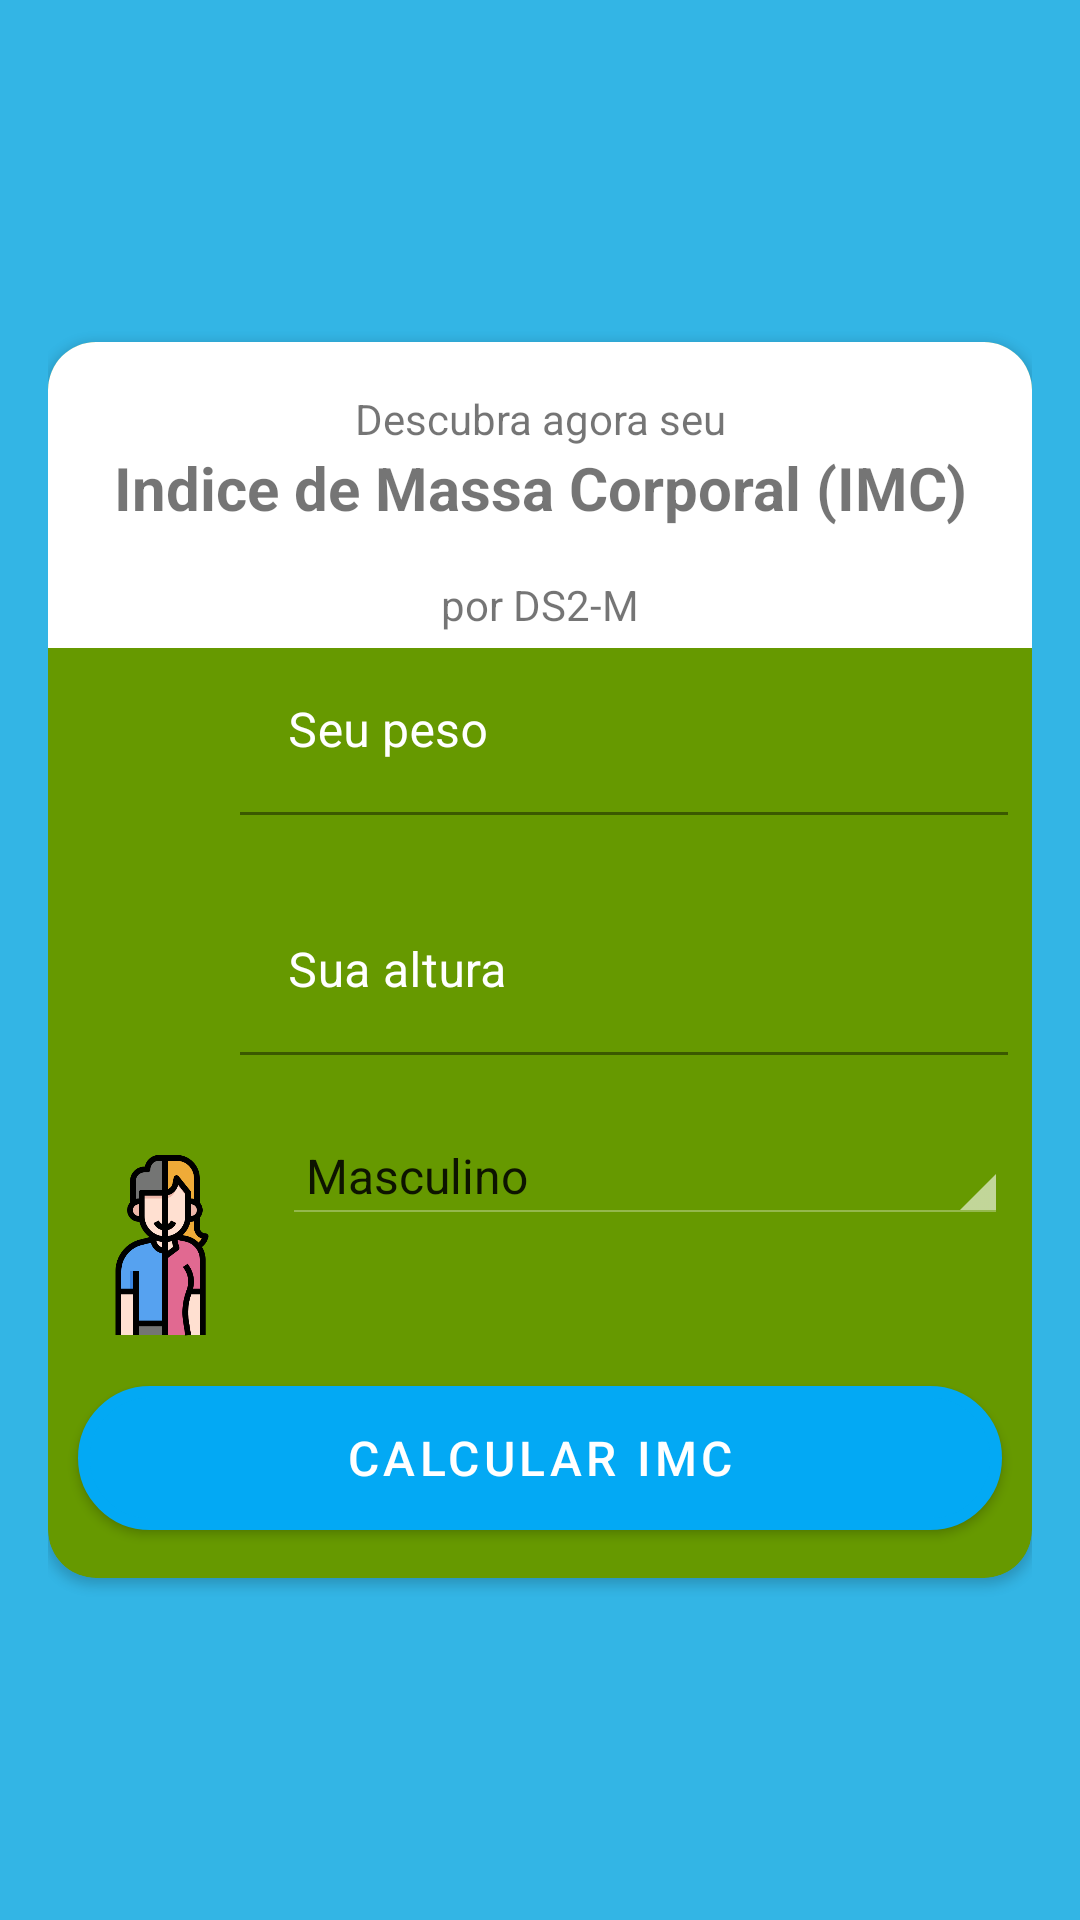

Locate icon controls on the screen. Image size 1080px x 1920px, boxes as [x1,y1,x2,y2].
genero: [115,1155,209,1336]
